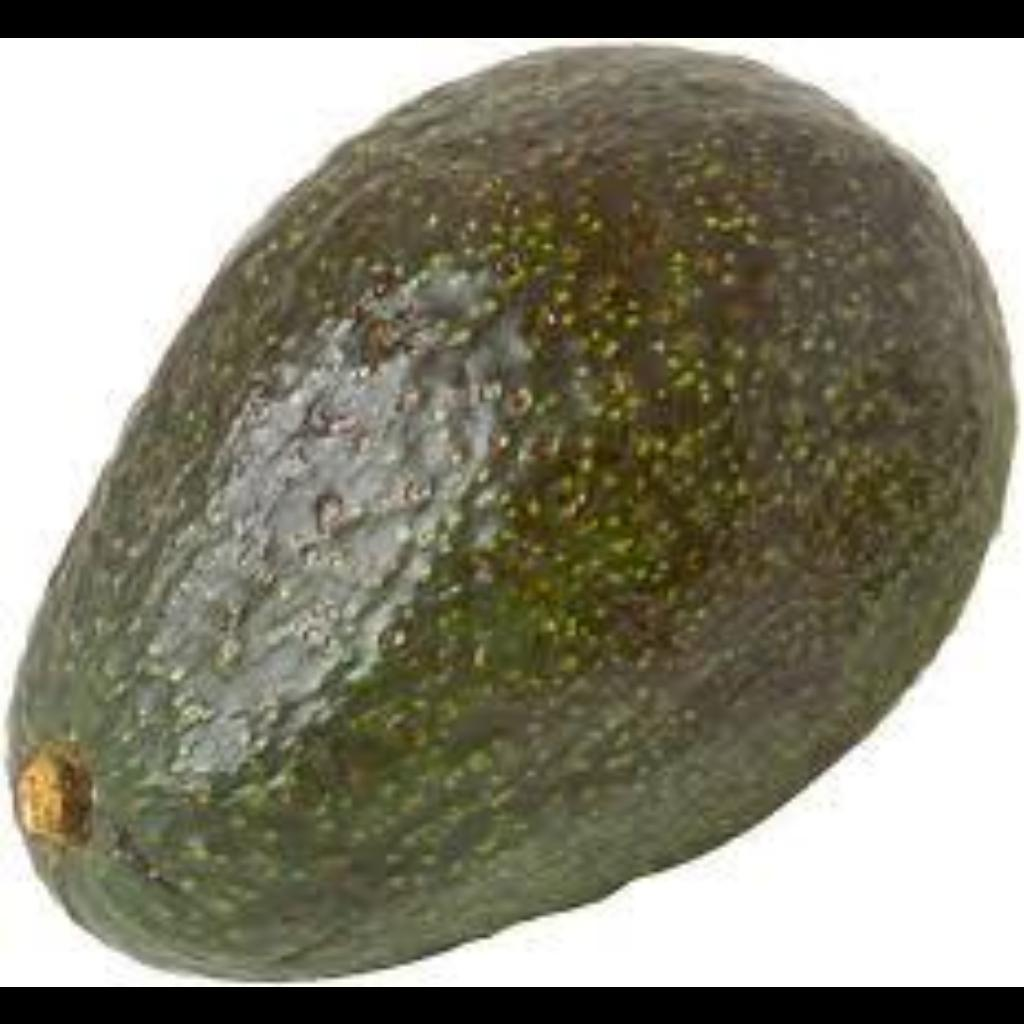Anthracnose: (264, 131, 932, 729)
